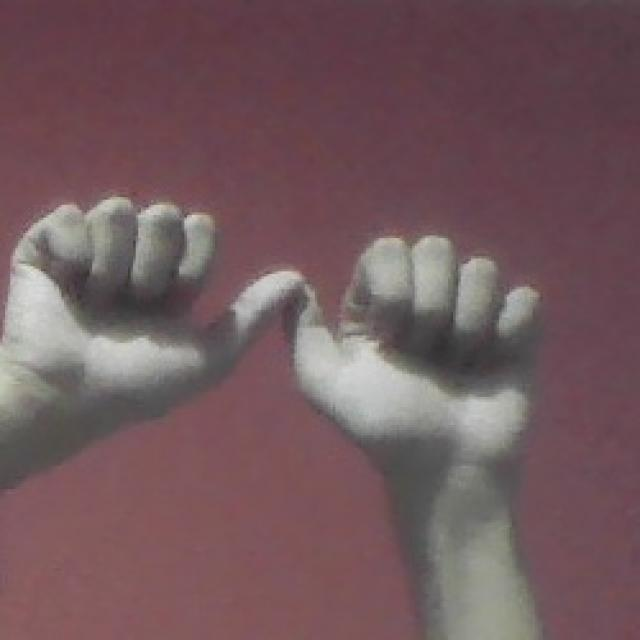Alphabet-A: (20, 198, 552, 496)
